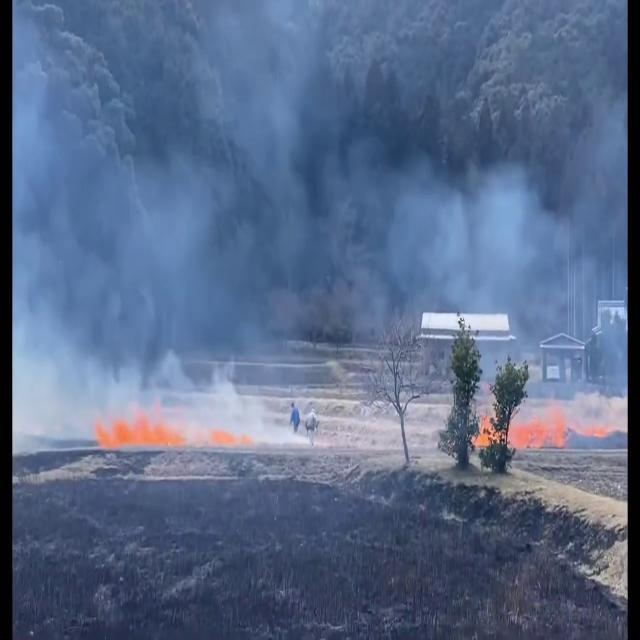Fire: (97, 406, 209, 456), (478, 415, 580, 454)
Smoke: (11, 42, 632, 436)
